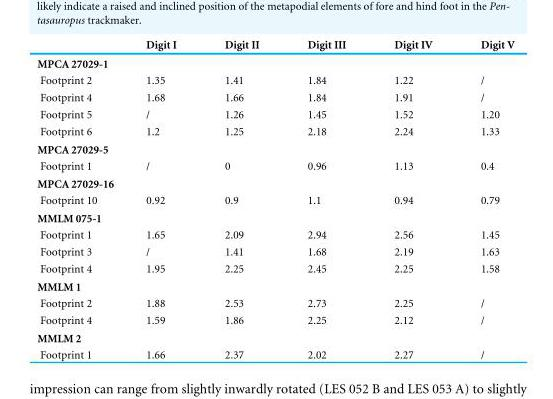table: (36, 36, 514, 360)
table column: (282, 36, 369, 360), (369, 36, 455, 360), (36, 36, 120, 360), (199, 36, 282, 360), (120, 36, 199, 360), (455, 36, 514, 360)
table column header: (36, 36, 514, 53)
table projected row header: (36, 53, 514, 71), (36, 173, 514, 191), (36, 139, 514, 156), (36, 208, 514, 225), (36, 276, 514, 293), (36, 328, 514, 345)
table row: (36, 53, 514, 71), (36, 121, 514, 139), (36, 173, 514, 191), (36, 310, 514, 328), (36, 36, 514, 53), (36, 87, 514, 104), (36, 104, 514, 121), (36, 139, 514, 156), (36, 156, 514, 173), (36, 191, 514, 208), (36, 208, 514, 225), (36, 225, 514, 242), (36, 242, 514, 259), (36, 259, 514, 276), (36, 276, 514, 293), (36, 293, 514, 310), (36, 328, 514, 345), (36, 71, 514, 87), (36, 345, 514, 360)
